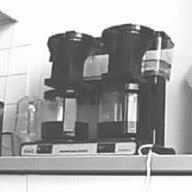not empty coffee: (93, 79, 154, 141)
